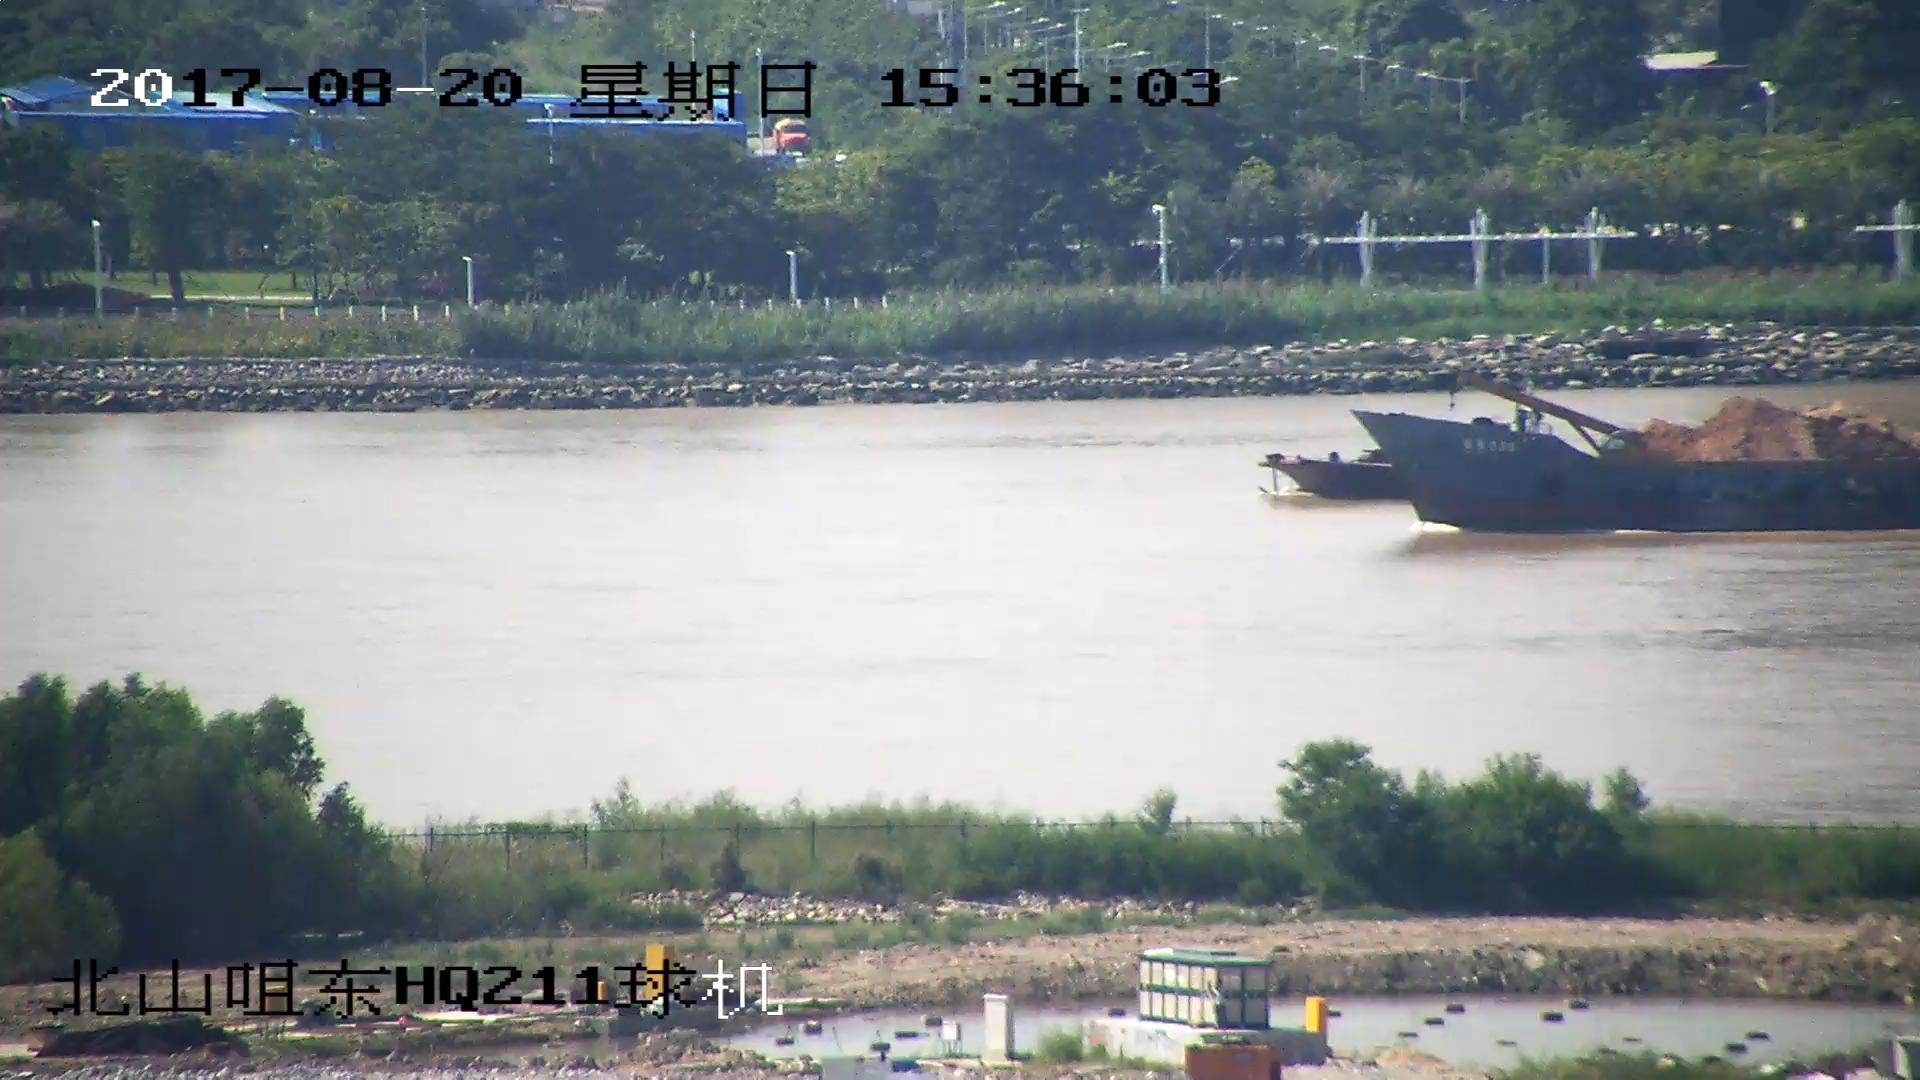Ship: (1364, 382, 1920, 530), (1262, 394, 1920, 502)
